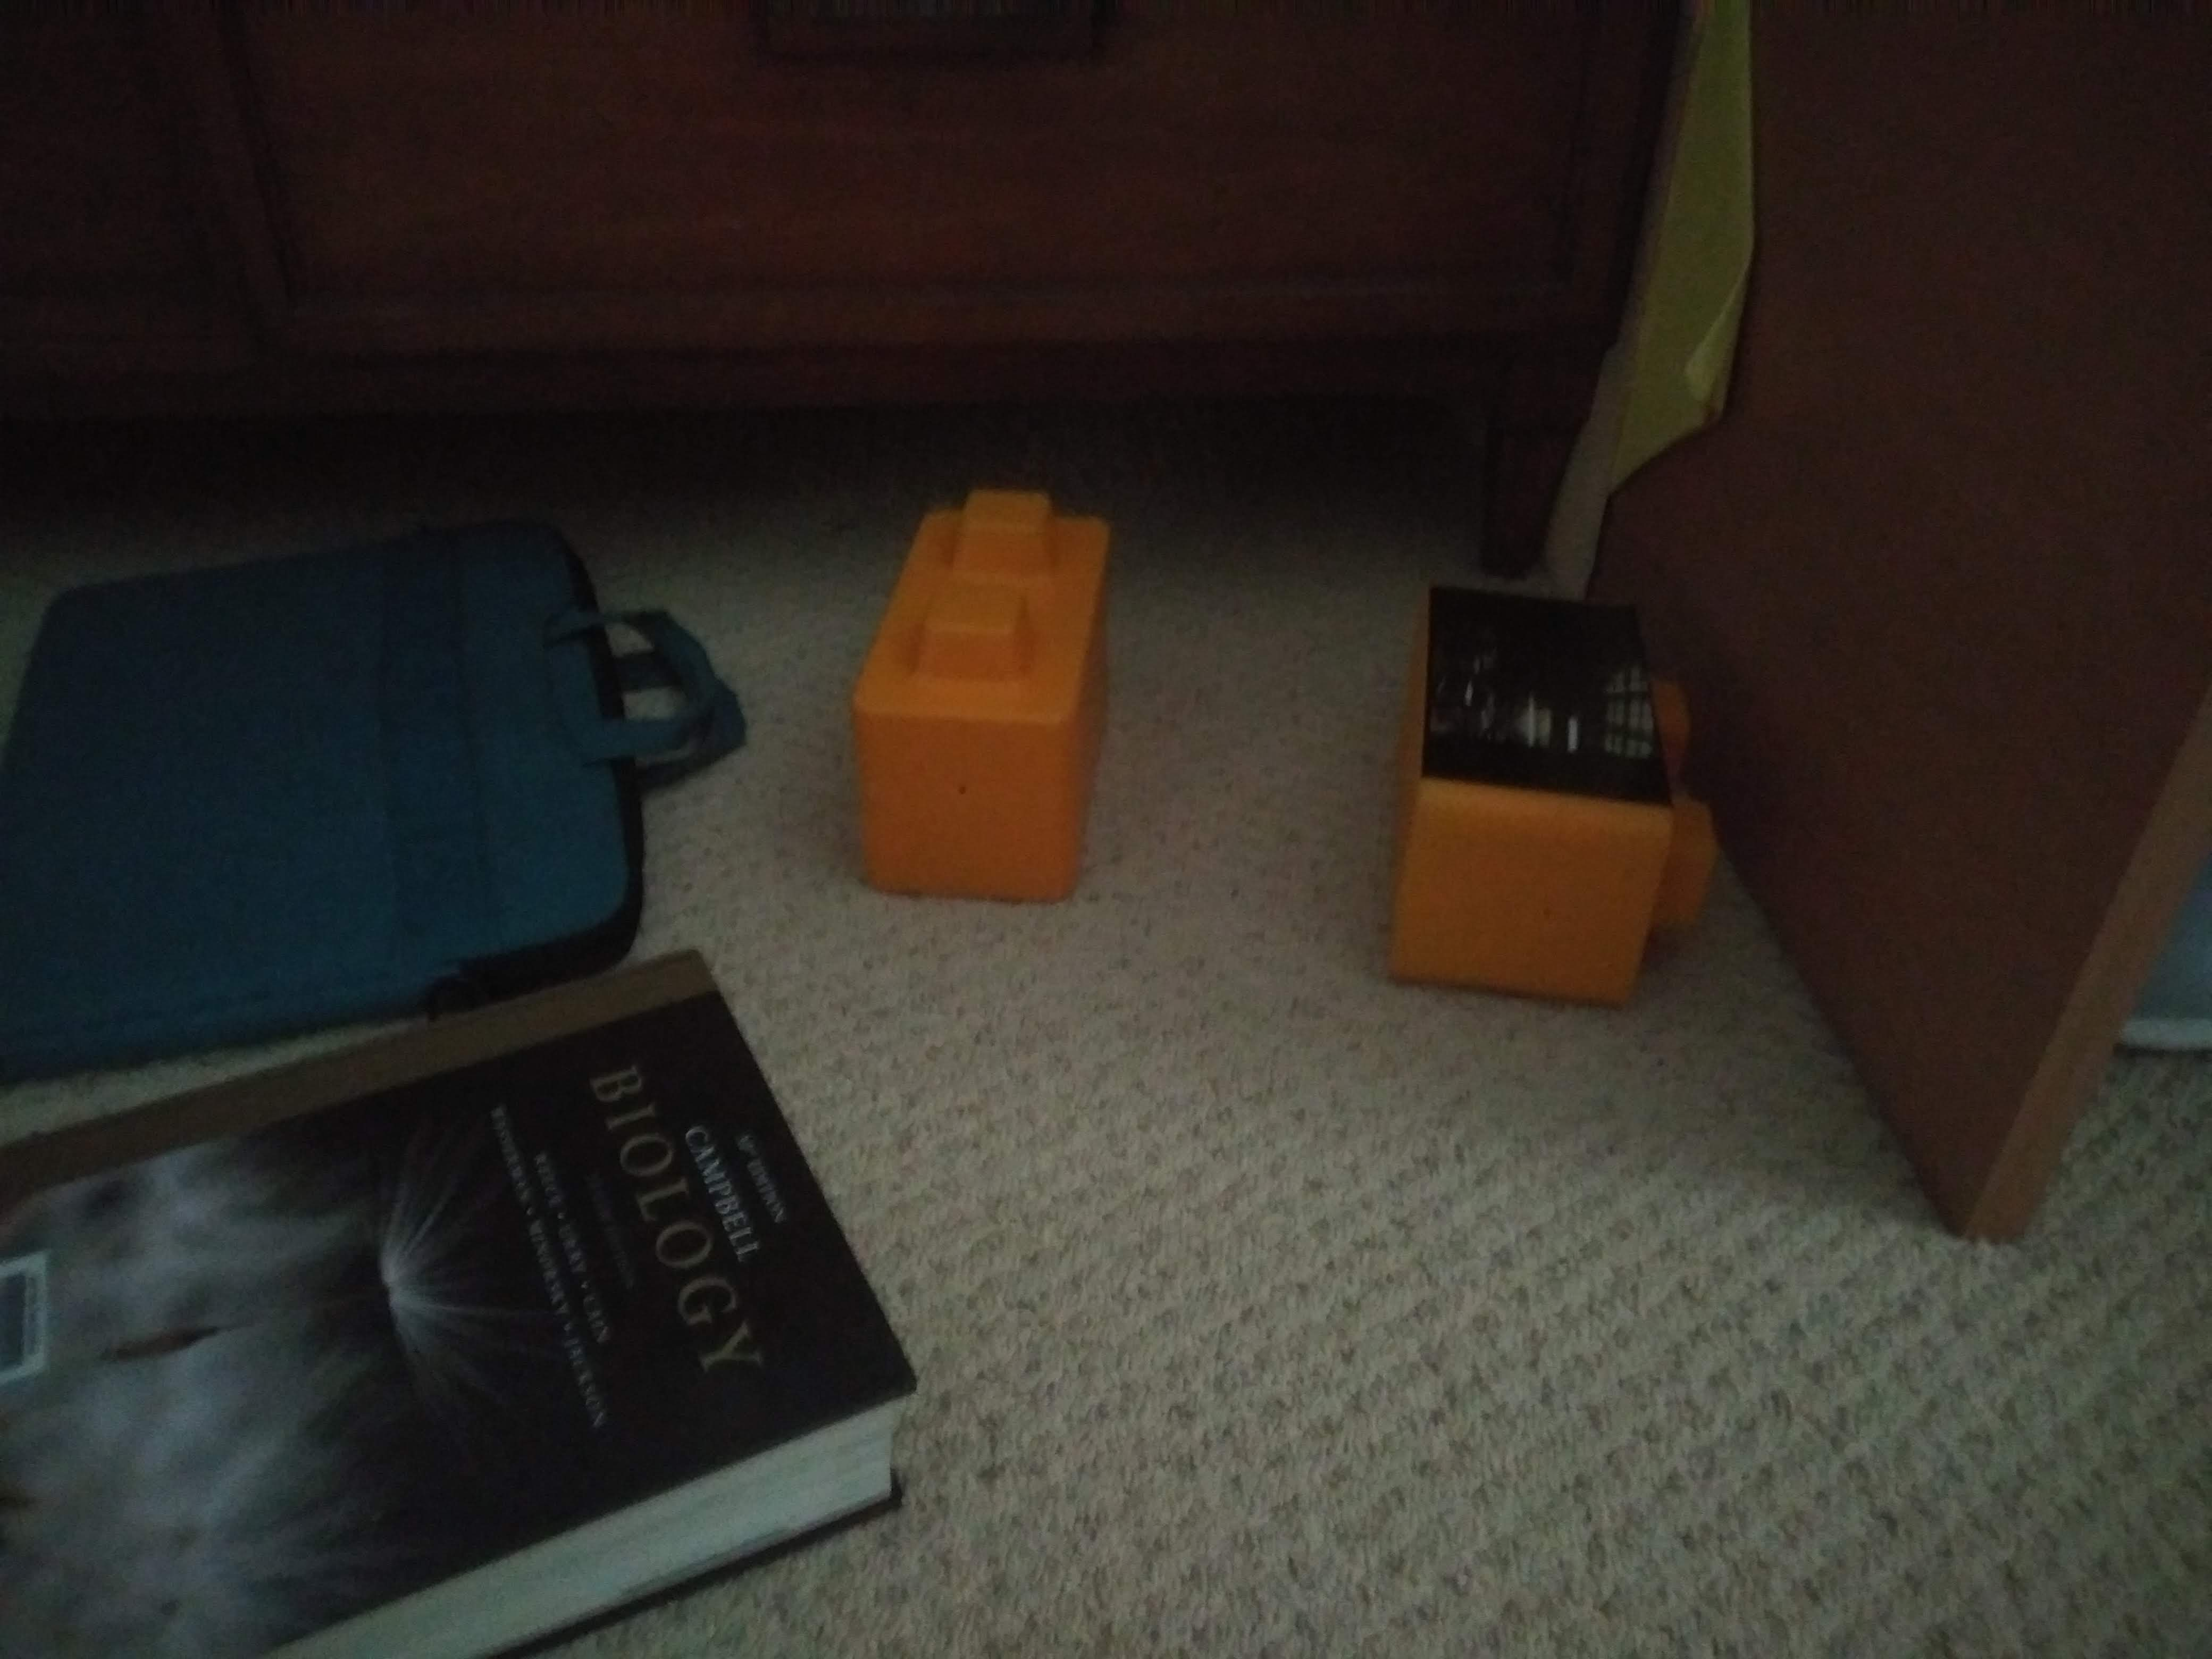skystone: (1407, 598, 1686, 1012)
stone: (864, 495, 1103, 904)
